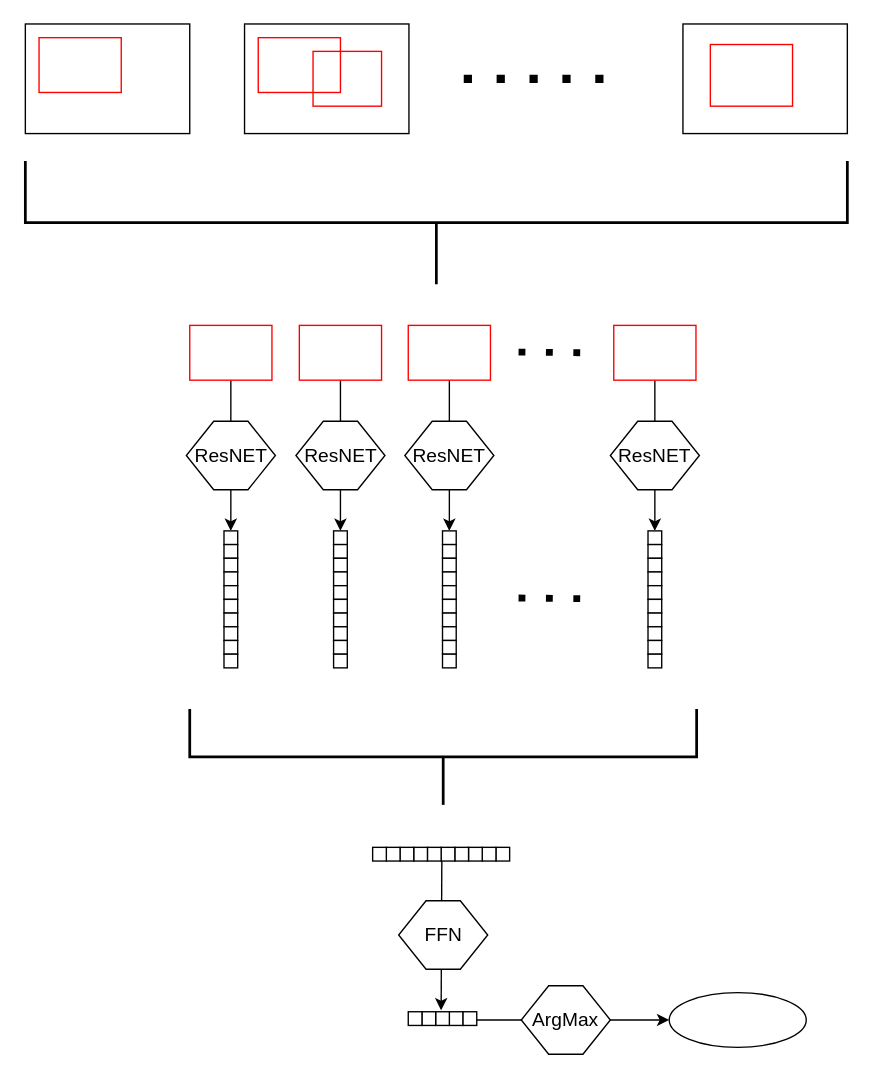
Some shapes in this 871 by 1078 pixel diagram are drawn without their labels. Here are the shapes that lost their labels. From the top down, the centre of each, then its label:
At (x=435, y=222): "Detection using MD, extracting relevant areas, simple augmentation, resizing".
At (x=442, y=756): "Average pooling".
At (x=737, y=1019): "Predicted Class".
